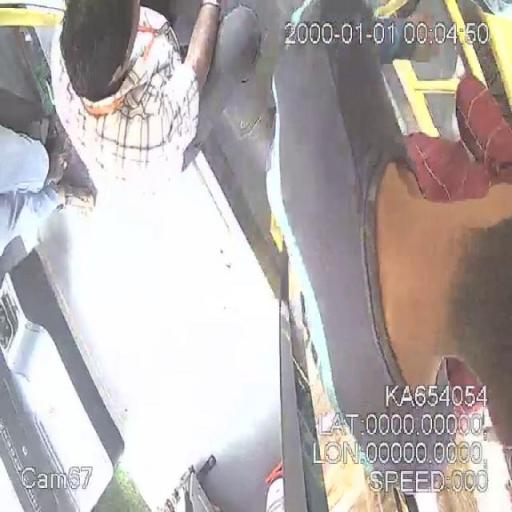persona: (270, 1, 511, 511), (43, 0, 261, 198)
